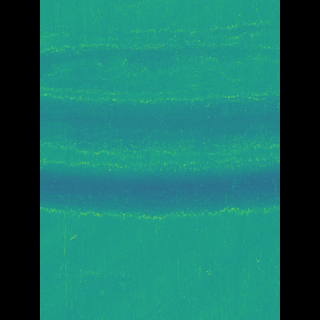Loch: (70, 21, 250, 220)
